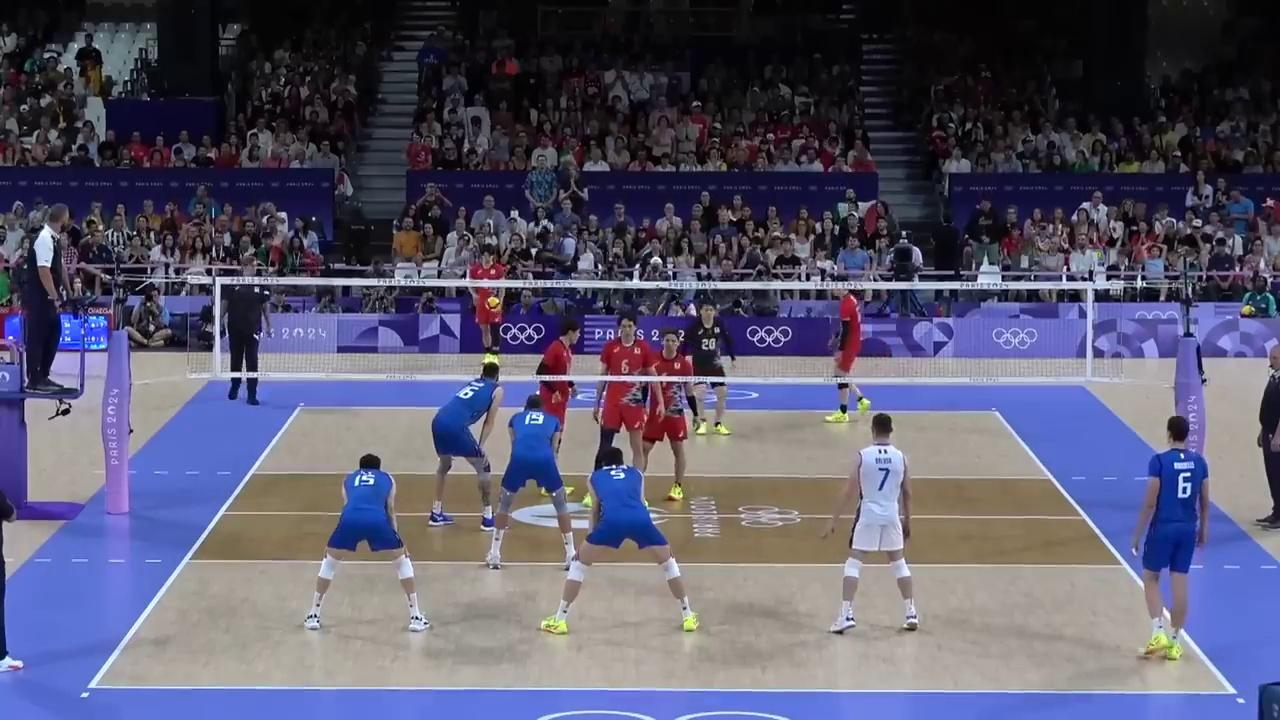ball: (486, 296, 502, 313)
